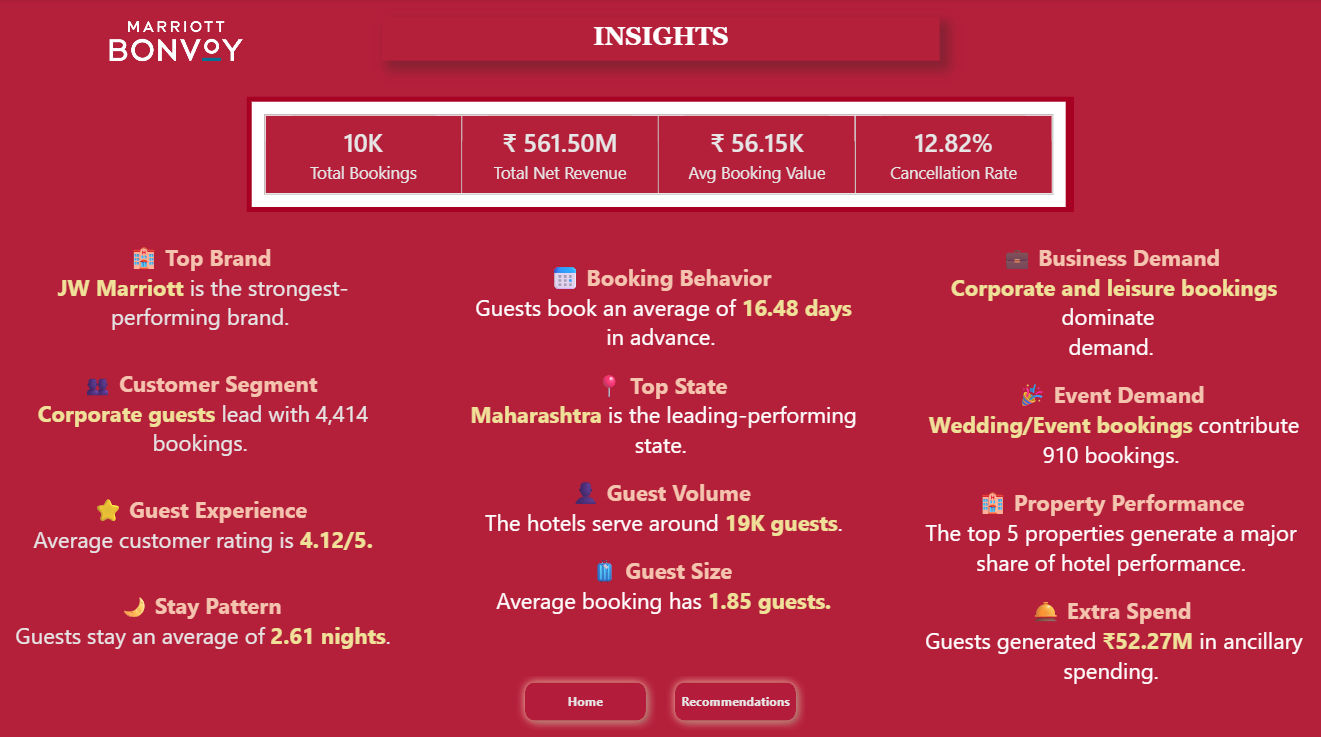

What the dashboard file says about the page in this screenshot:
{"tool":"powerbi","page":{"name":"Insights","canvas":[1280,720],"ordinal":6},"visuals":[{"type":"textbox","box":[370,17.5,538.8,42.5],"z":0},{"type":"image","box":[62.5,0,218.8,83.8],"z":1000},{"type":"cardVisual","fields":{"Data":["_Measures.Total Bookings","_Measures.Total Net Revenue","_Measures.Avg Booking Value","_Measures.Cancellation Rate"]},"box":[240,95,798.8,111.2],"z":2000},{"type":"textbox","box":[0,230,390,490],"z":3000},{"type":"textbox","box":[868.8,230,411.2,476.2],"z":4000},{"type":"textbox","box":[443.8,250,391.2,391.2],"z":5000},{"type":"pageNavigator","box":[500,651.2,280,55],"z":6000}]}

Visuals, with their boxes in screenshot pixels (x1, y1, x2, y2), scaled from the page's 1280x720 canvas onto the 1321x737 screenshot:
textbox: box(382, 18, 938, 61)
image: box(65, 0, 290, 86)
cardVisual - _Measures.Total Bookings x _Measures.Total Net Revenue: box(248, 97, 1072, 211)
textbox: box(0, 235, 402, 736)
textbox: box(897, 235, 1320, 723)
textbox: box(458, 256, 862, 656)
pageNavigator: box(516, 667, 805, 723)
